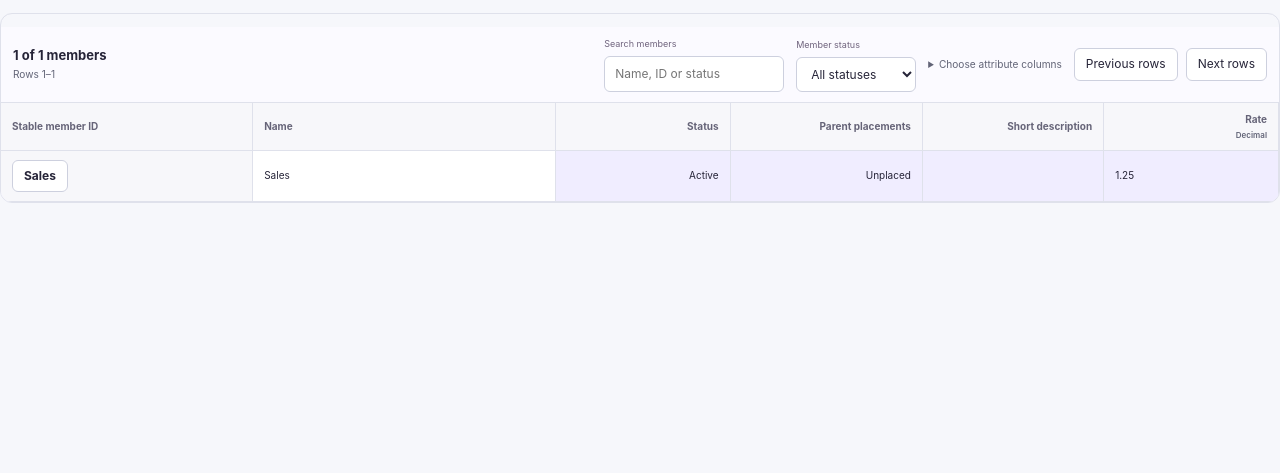
Test case: blocks review of an invalid exact decimal in the inline grid
The width and height of the screenshot is (1280, 473).
Step 1. Click the cell named "Rate for Sales" → (1192, 176), box [1104,150,1279,202]
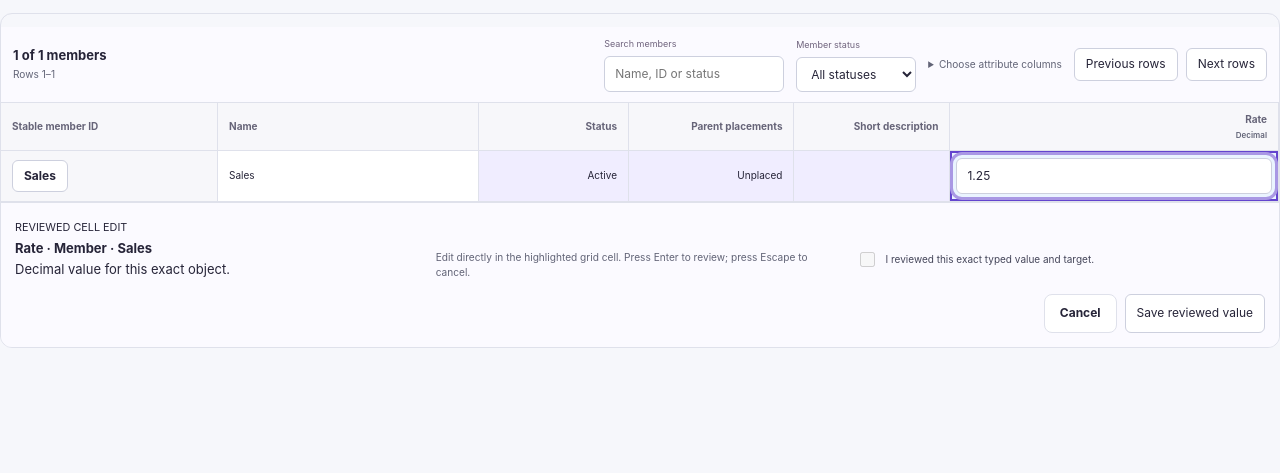
Step 2. Replace the text in the field named "Typed value" with "2.5001" → (1114, 176), box [956,158,1272,194]
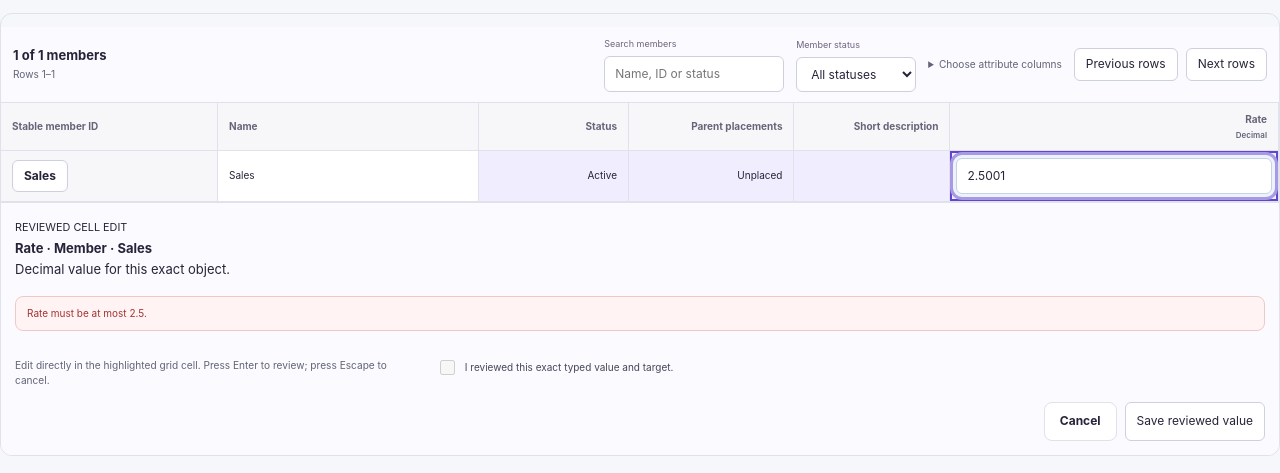
expect the checkbox labelled "I reviewed this exact typed value and target." is disabled: met, box [440,360,455,375]
expect the button "Save reviewed value" is disabled: met, box [1125,402,1265,441]
expect the message reads "Rate must be at most 2.5.": met, box [27,307,147,319]
